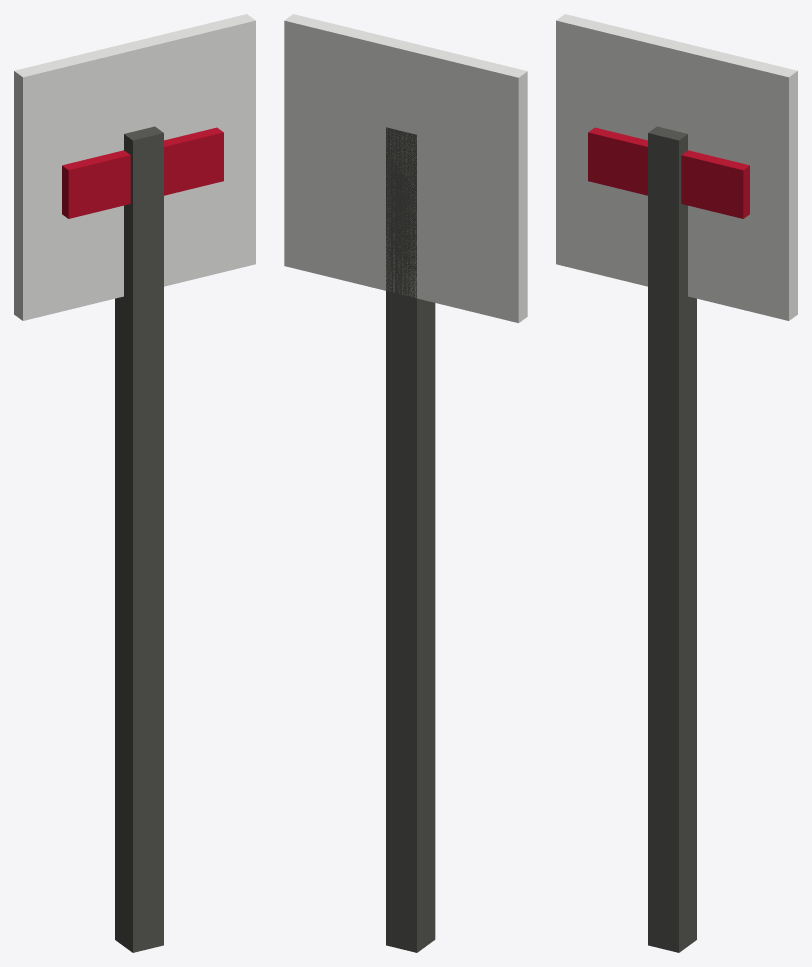
The model's file is f44-navigation-marker.glb.
3 views of the same model, side by side, from view 1: azimuth 30°, elevation 25°; view 2: azimuth 150°, elevation 25°; view 3: azimuth 330°, elevation 25° (orthographic).
Visible parts, largest first — view 1: part1, part0, part2; view 2: part1, part0; view 3: part1, part0, part2.
Part boxes in pixels (left/top/right/bottom): part1: left=14, top=14, right=255, bottom=320; part0: left=115, top=126, right=163, bottom=952; part2: left=62, top=127, right=223, bottom=218; part1: left=284, top=14, right=527, bottom=323; part0: left=386, top=127, right=435, bottom=952; part1: left=556, top=14, right=797, bottom=320; part0: left=648, top=126, right=696, bottom=952; part2: left=588, top=127, right=749, bottom=218.
Size of the model in its own units: 600 by 2200 by 80.
